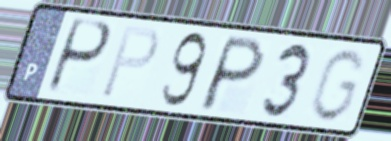3: (258, 40, 313, 120)
9: (159, 30, 209, 109)
G: (306, 46, 368, 125)
P: (194, 33, 269, 115), (42, 15, 115, 97), (97, 24, 163, 101)
